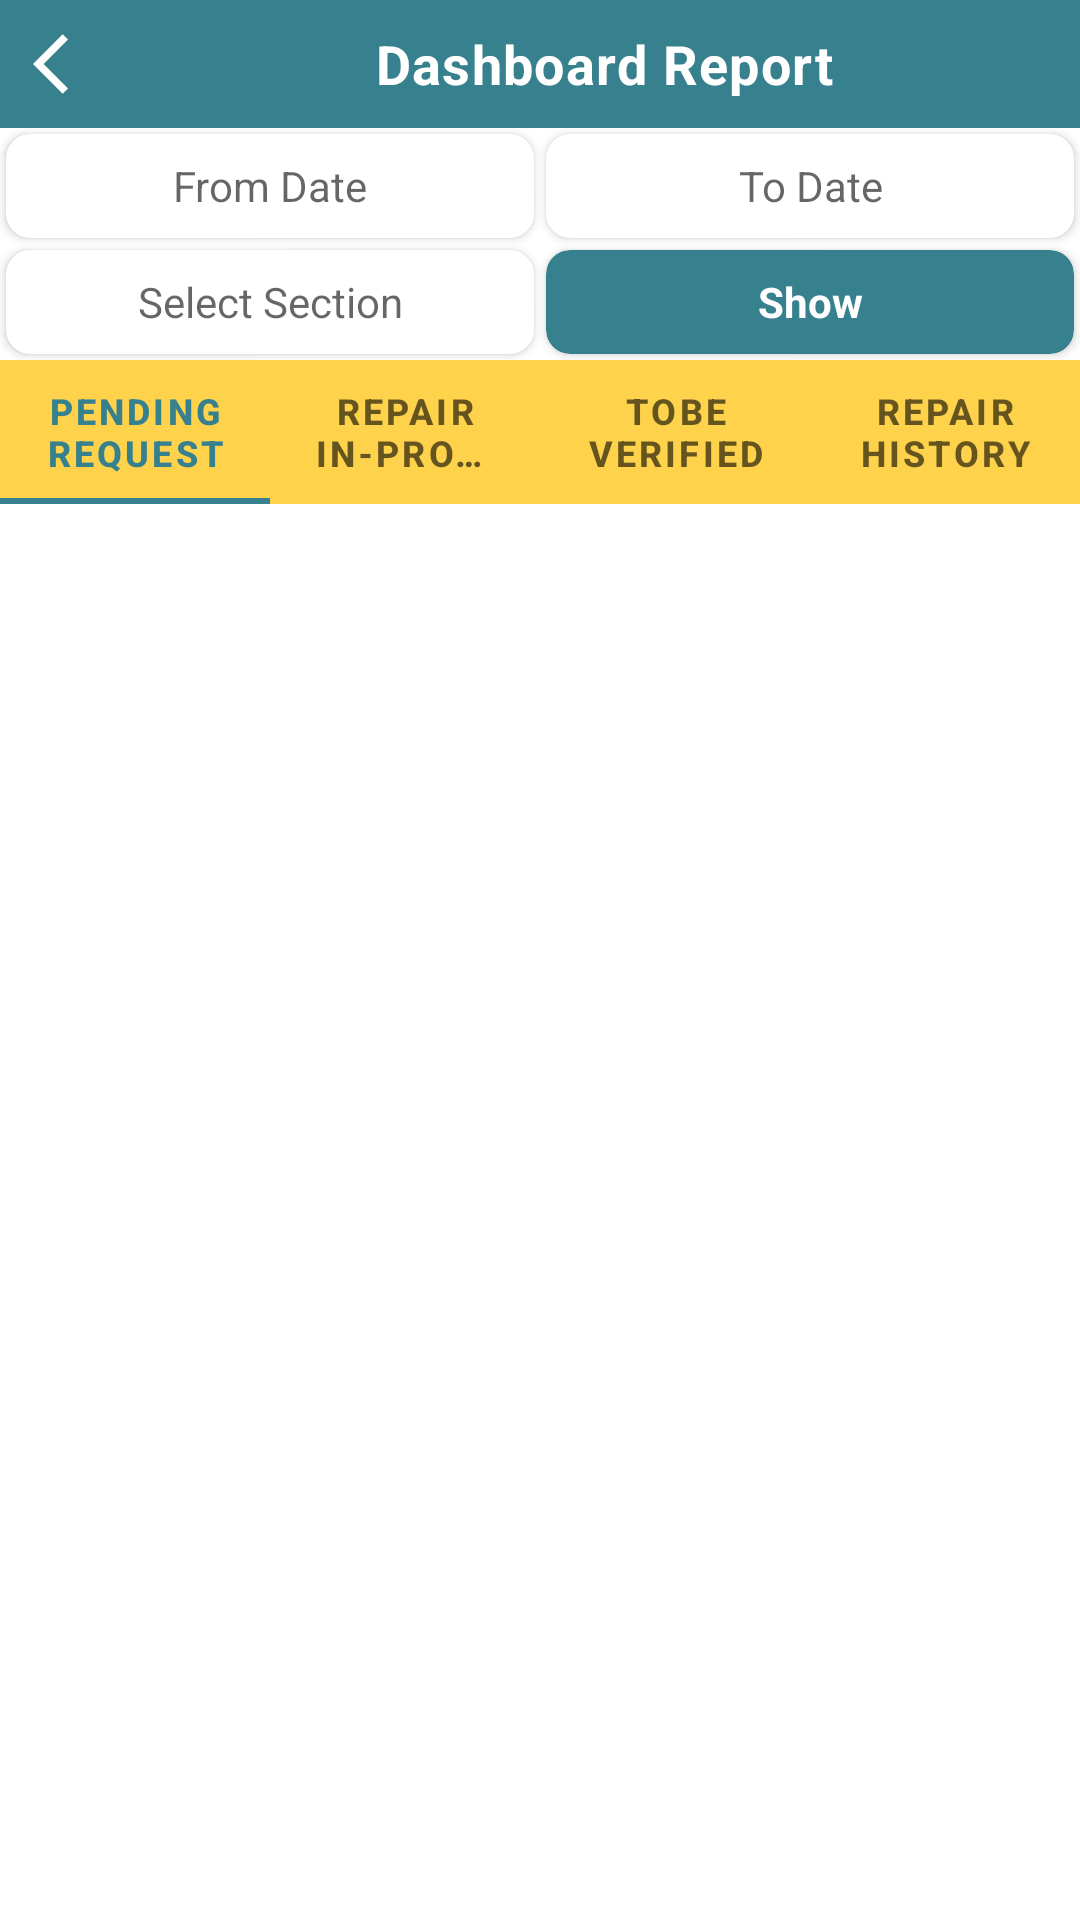

Named icons in this screenshot (1080*1920) and their centers, (x,y):
arrow back: (50,64)
